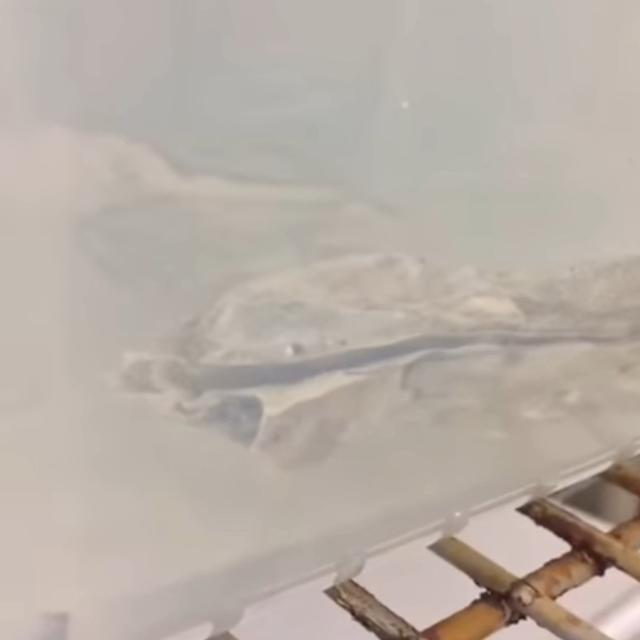Oyster-Indeterminate: (69, 120, 352, 230)
Oyster-Open: (105, 254, 640, 476)
